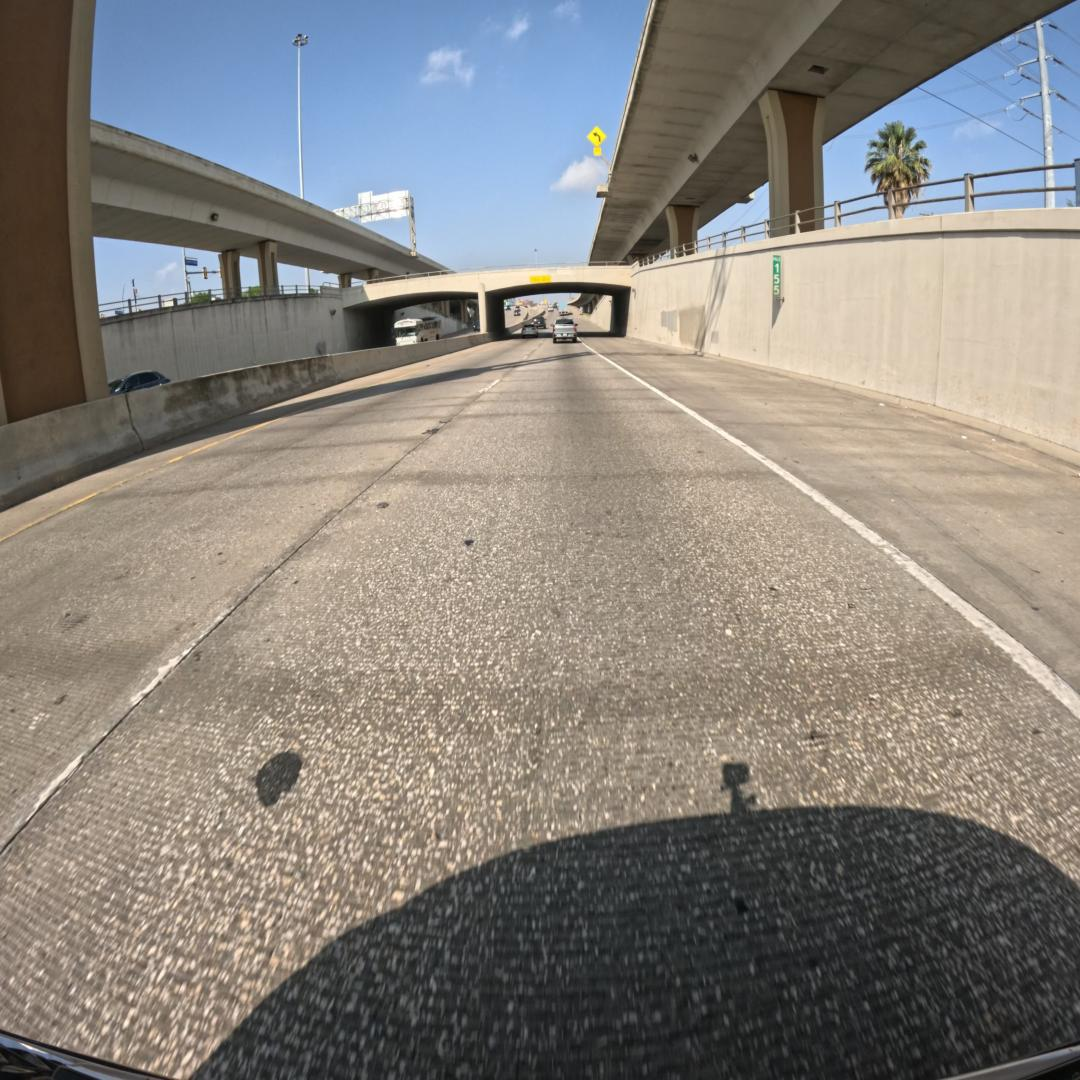lane1: (0, 342, 535, 851)
